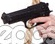pistol: (1, 1, 55, 42)
